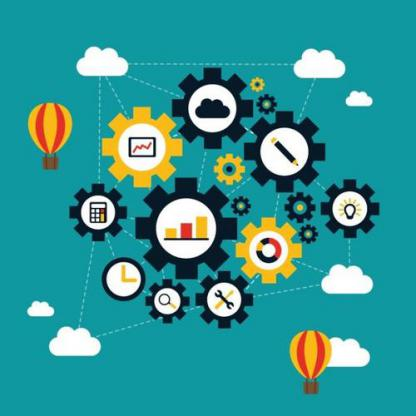FOD: (233, 215, 304, 288), (318, 177, 383, 243), (67, 182, 130, 246), (142, 276, 192, 326)
